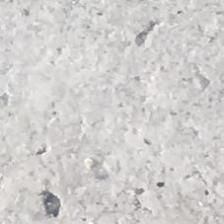Non_Crack: (27, 37, 224, 224)
